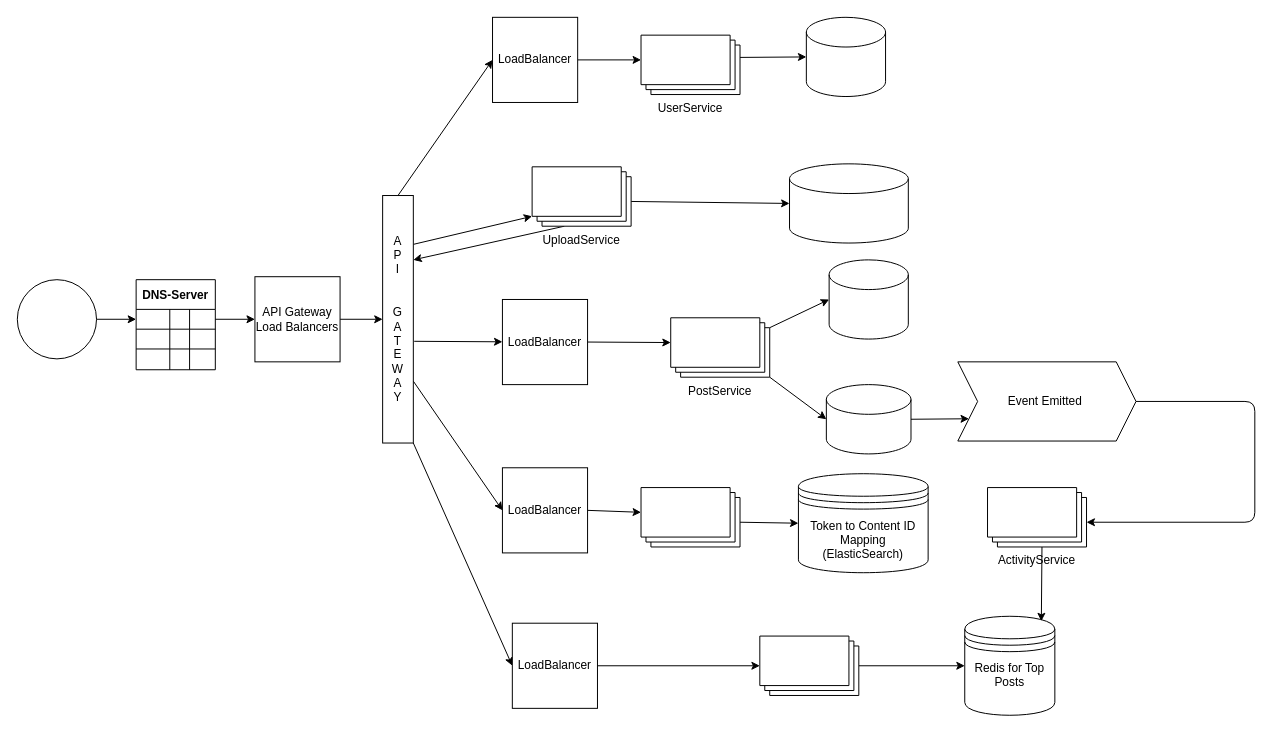
Some shapes in this 1280 by 734 pixel diagram are drawn without their labels. The shapes that lost their labels are listed below. From the top down, each one's centre as x and y in pixels, then its label:
At point 845,56: "UserDB (PostGres)".
At point 848,203: "Media/VideoContent (S3 - ObjectStore)".
At point 56,319: "Client".
At point 868,299: "PostDB (PostGres)".
At point 868,419: "EventDB (PostGres)".
At point 690,517: "SearchService".
At point 809,665: "FeedService".
